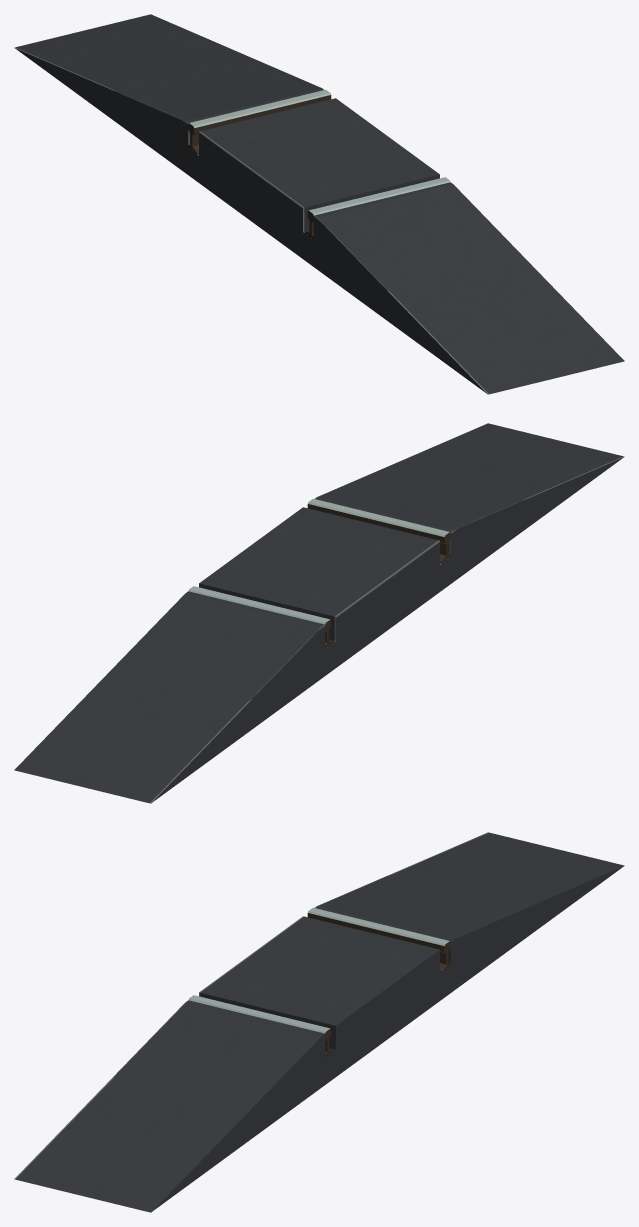
Rendered from spsf_crossing.obj.
The picture shows the model from 3 angles, top to bottom: view 1: azimuth 30°, elevation 25°; view 2: azimuth 150°, elevation 25°; view 3: azimuth 330°, elevation 25°; orthographic projection.
Parts seen in each view (by area): view 1: RAIL_BASE, RAIL_RIGHT, RAIL_LEFT; view 2: RAIL_BASE, RAIL_LEFT, RAIL_RIGHT; view 3: RAIL_BASE, RAIL_RIGHT, RAIL_LEFT.
Part boxes in pixels (x1=…): RAIL_BASE: x1=14, y1=14, x2=624, y2=394; RAIL_RIGHT: x1=188, y1=89, x2=331, y2=154; RAIL_LEFT: x1=304, y1=177, x2=450, y2=241; RAIL_BASE: x1=14, y1=423, x2=624, y2=803; RAIL_LEFT: x1=307, y1=498, x2=453, y2=563; RAIL_RIGHT: x1=188, y1=586, x2=334, y2=649; RAIL_BASE: x1=14, y1=832, x2=624, y2=1212; RAIL_RIGHT: x1=307, y1=907, x2=452, y2=972; RAIL_LEFT: x1=188, y1=995, x2=334, y2=1059.
Bounding box in the file's own units: 1 × 0.3683 × 6.
Materials: 1 (1 with a texture image).
